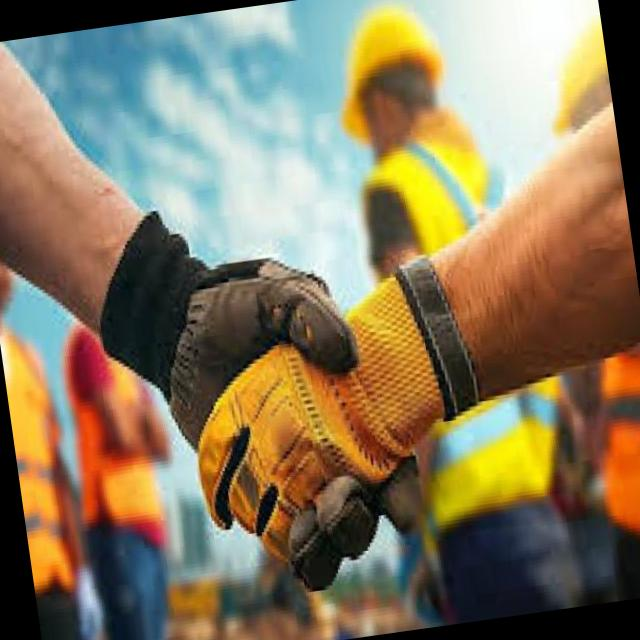gloved: (173, 238, 492, 562), (81, 179, 347, 430)
